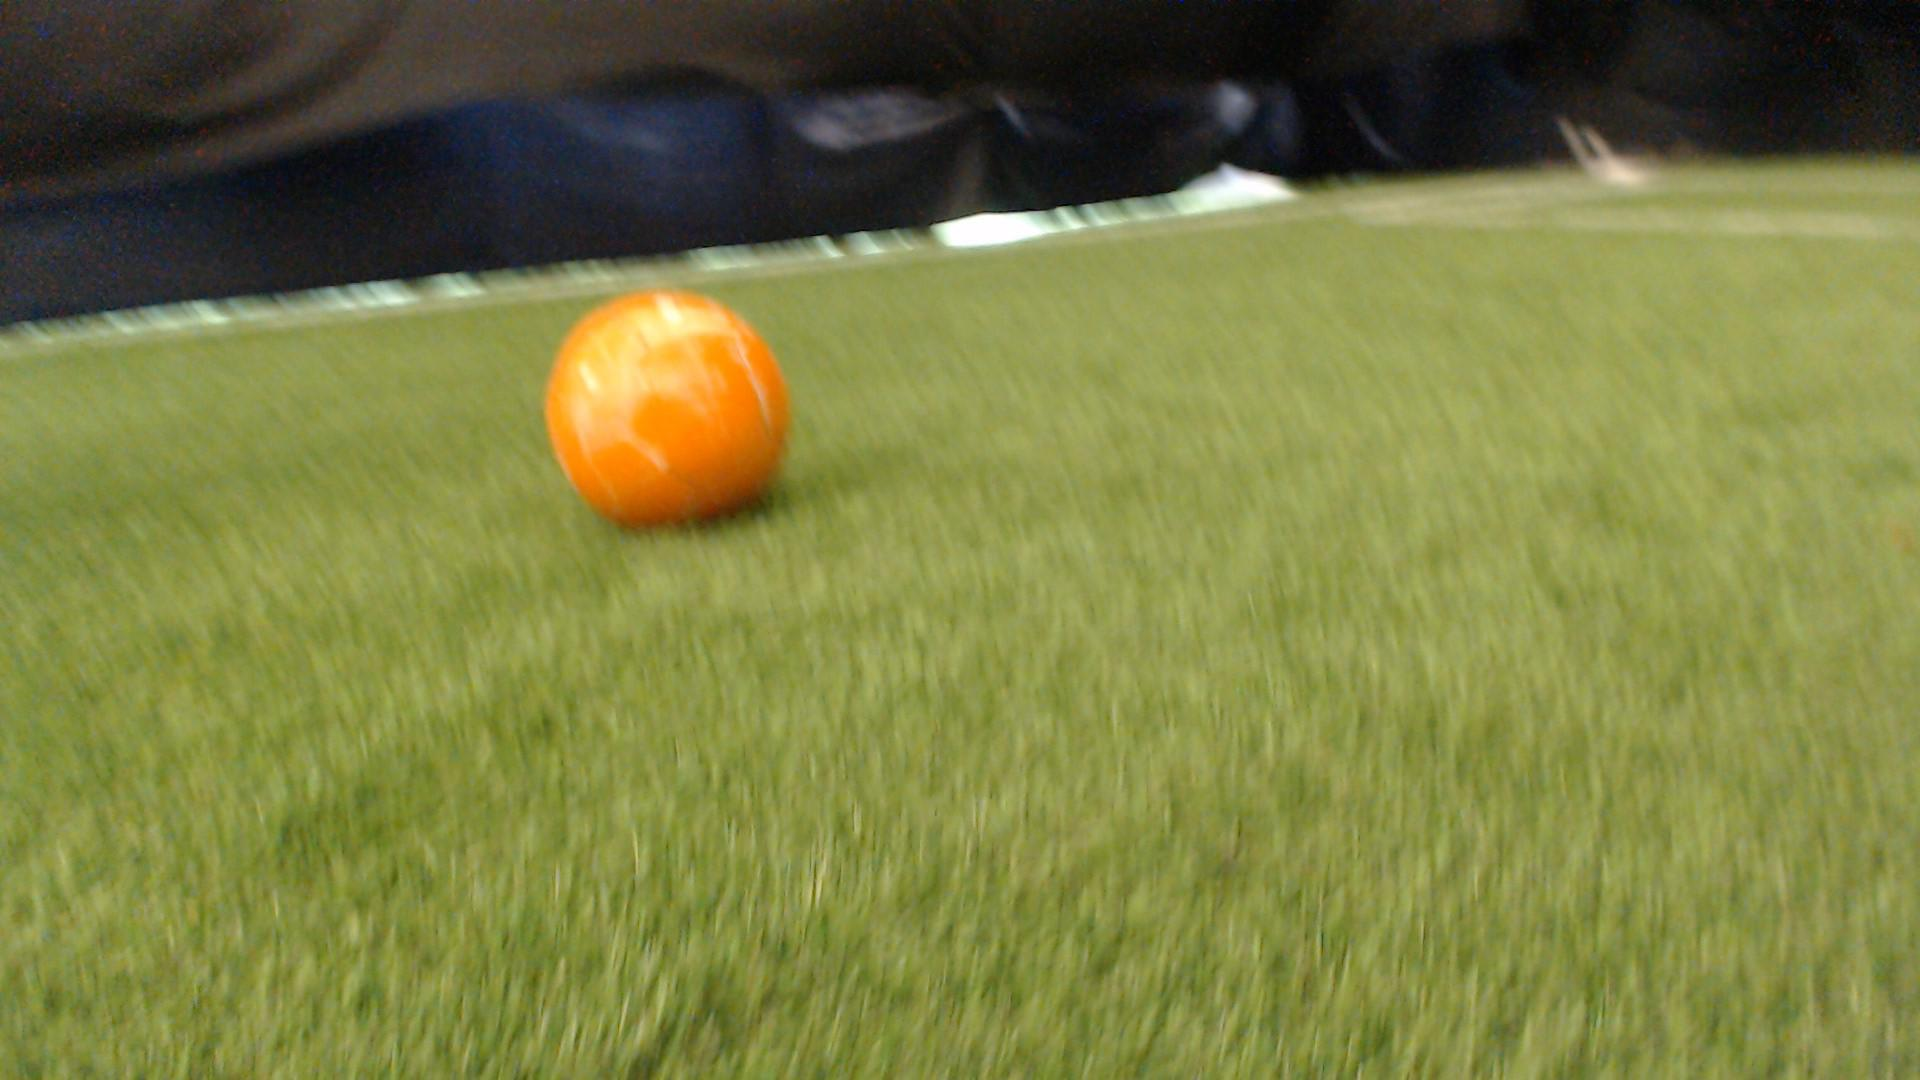bola: (535, 276, 814, 558)
